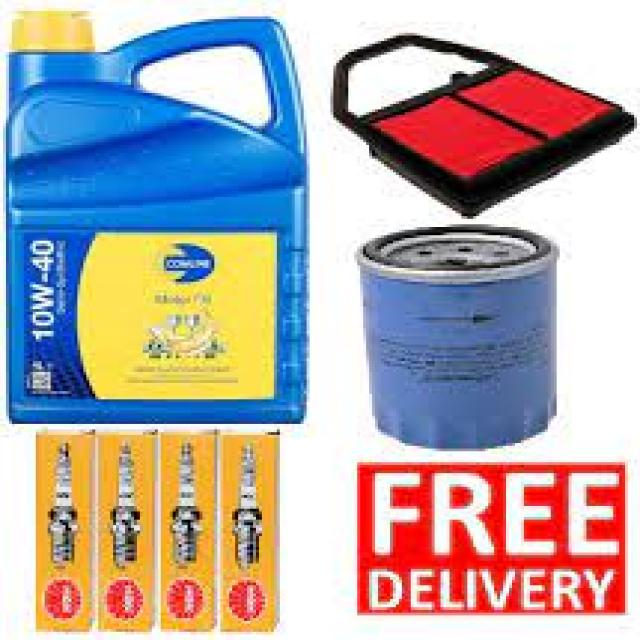air_filter: (330, 25, 640, 213)
motor_oil: (0, 2, 311, 426)
oil_filter: (352, 220, 564, 456)
